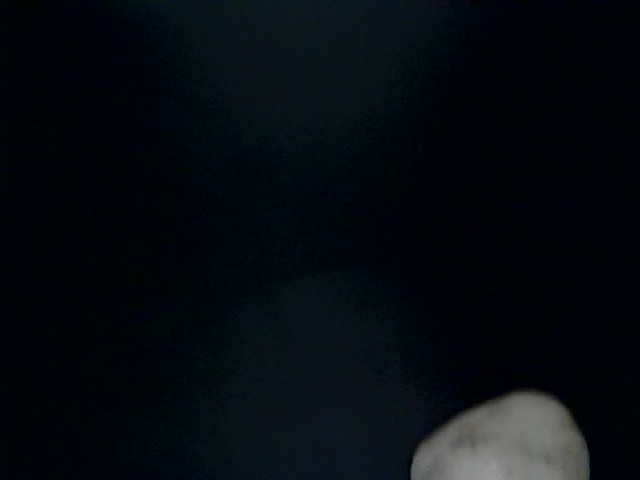QTLJ: (148, 1, 373, 169)
